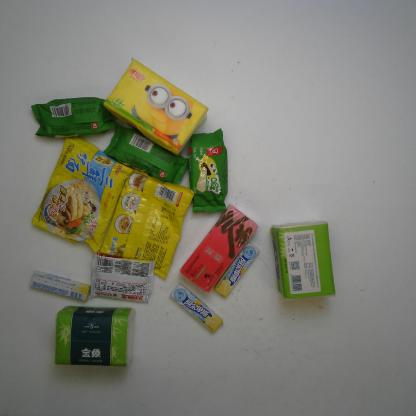Candy: (170, 281, 226, 335), (213, 241, 259, 298), (28, 270, 90, 302)
Dessert: (103, 124, 190, 186), (29, 94, 118, 140), (86, 252, 157, 305), (188, 127, 230, 214)
Instant Drink: (178, 202, 260, 294)
Instant Noodles: (30, 135, 134, 255), (99, 168, 196, 281)
Tissue: (102, 56, 210, 157), (269, 219, 337, 301), (52, 304, 137, 368)
